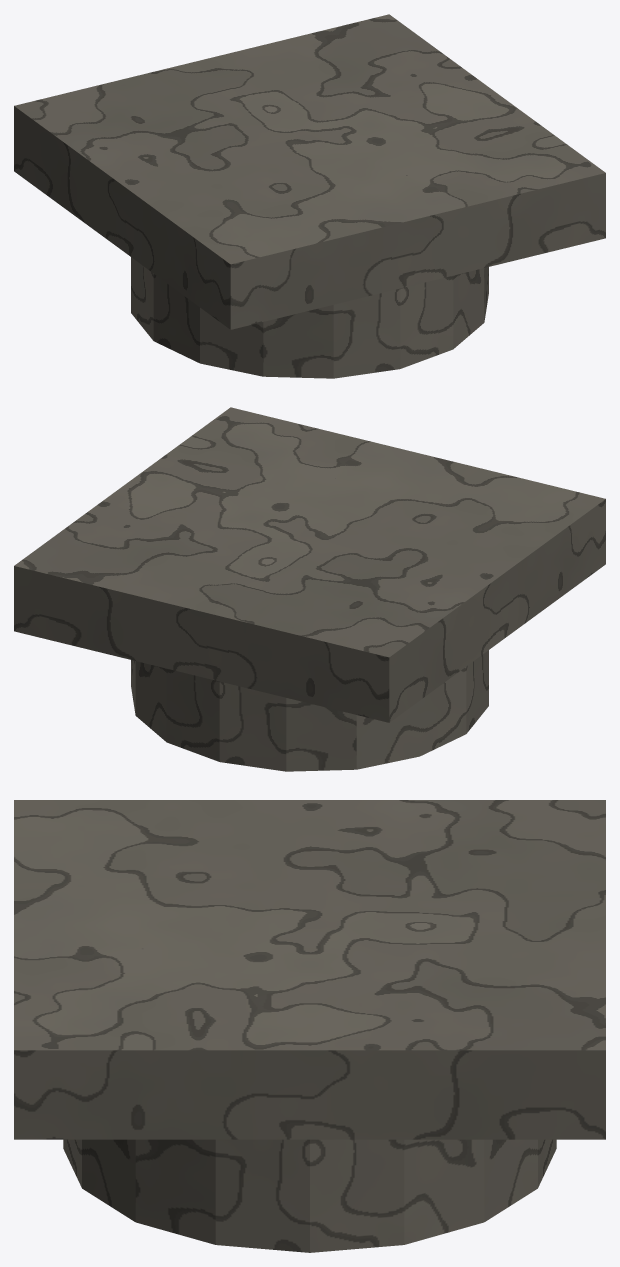
Rendered from column_round_cap.glb.
3 views of the same model, one above another, from view 1: azimuth 30°, elevation 25°; view 2: azimuth 150°, elevation 25°; view 3: azimuth 270°, elevation 25° (orthographic). The views are drawn at different scales.
Parts seen in each view (by area): view 1: column_round_cap; view 2: column_round_cap; view 3: column_round_cap.
Part boxes in pixels (x1,y1,x2,y2): column_round_cap: [14, 14, 605, 378]; column_round_cap: [14, 407, 605, 771]; column_round_cap: [14, 800, 605, 1252].
Bounding box in the file's own units: 0.6 × 0.25 × 0.6.
1 material, 1 textured.
